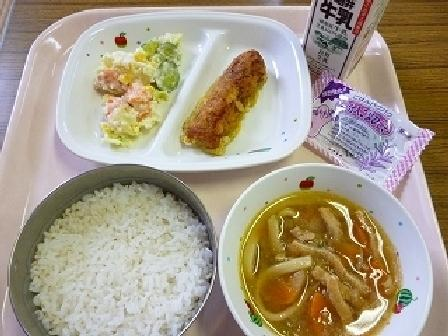Milk: (295, 0, 397, 87)
Rice: (22, 170, 221, 335)
Salad: (82, 34, 179, 150)
Soups: (226, 167, 421, 330)
cutlet: (181, 43, 276, 158)
